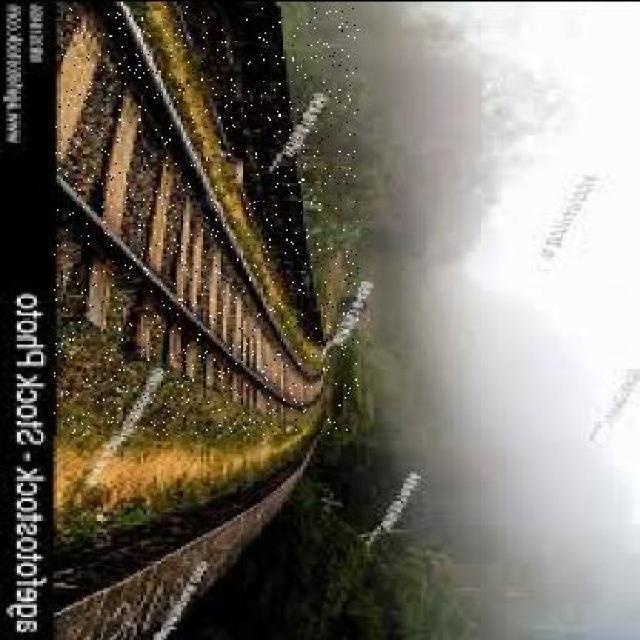rail: (55, 6, 358, 434)
